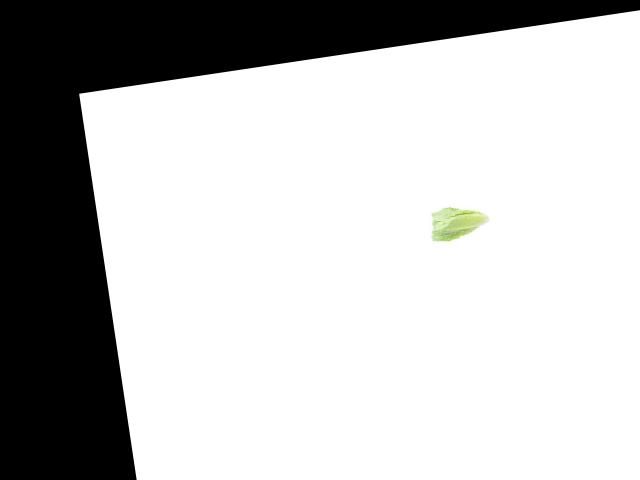lettuce: (424, 196, 494, 248)
